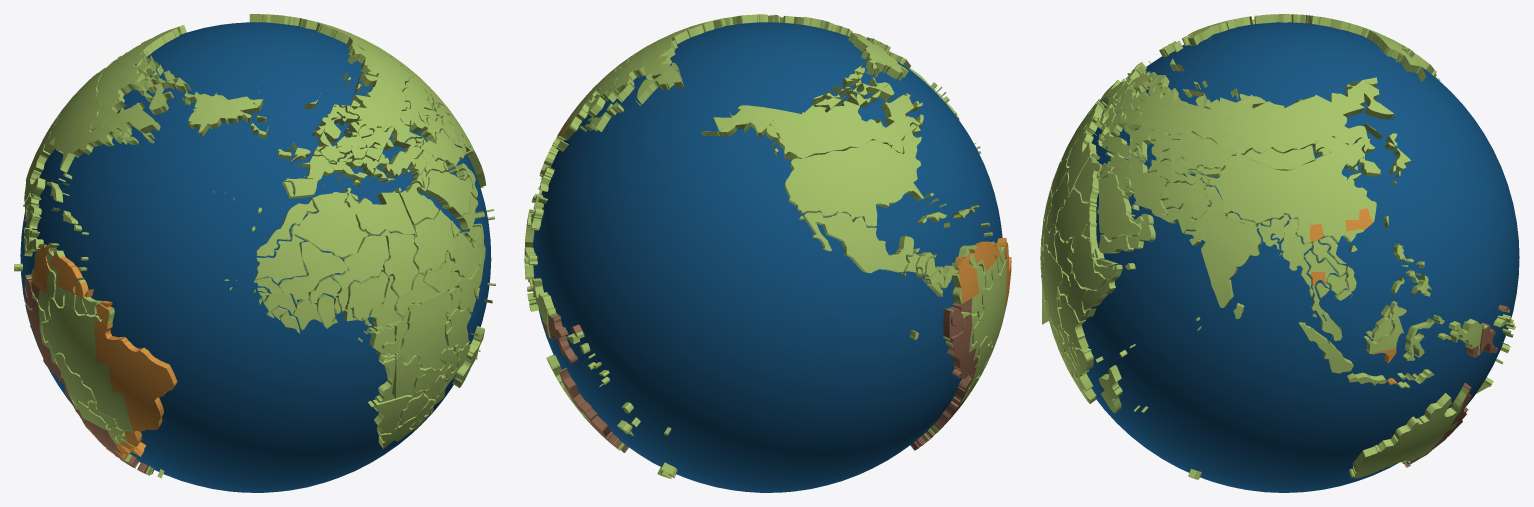
Rendered from Map.fbx.
3 views of the same model, side by side, from view 1: azimuth 30°, elevation 25°; view 2: azimuth 150°, elevation 25°; view 3: azimuth 270°, elevation 25° (orthographic).
Parts seen in each view (by area): view 1: Icosphere.001, map2; view 2: Icosphere.001, map2; view 3: Icosphere.001, map2.
Boxes of the visible parts, x1,y1,x2,y2 form: Icosphere.001: (20,22,491,492); map2: (14,14,495,478); Icosphere.001: (533,22,1002,492); map2: (524,14,1011,478); Icosphere.001: (1082,22,1519,492); map2: (1040,14,1515,479).
Bounding box in the file's own units: 206 × 200 × 203.
